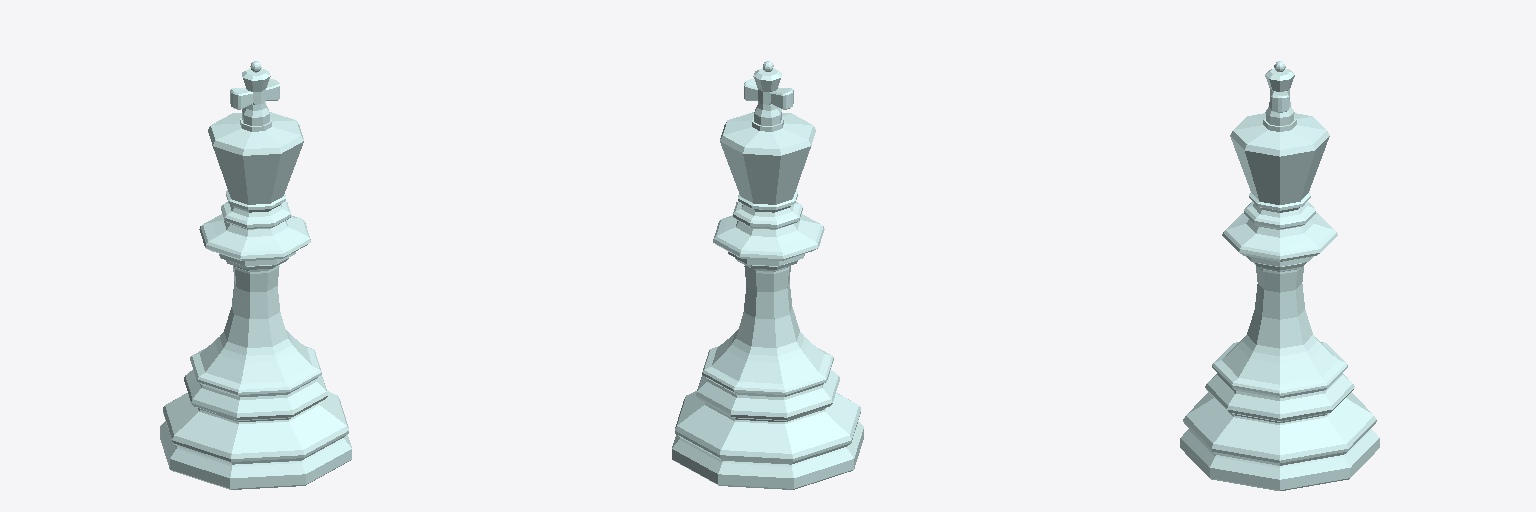
The model's file is King.obj.
The picture shows the model from 3 angles: view 1: azimuth 30°, elevation 25°; view 2: azimuth 150°, elevation 25°; view 3: azimuth 270°, elevation 25°; orthographic projection.
Parts seen in each view (by area): view 1: King_Cylinder.012; view 2: King_Cylinder.012; view 3: King_Cylinder.012.
Part boxes in pixels (x1,y1,x2,y2): King_Cylinder.012: (160, 61, 351, 489); King_Cylinder.012: (672, 61, 863, 489); King_Cylinder.012: (1180, 61, 1379, 490).
Size of the model in its own units: 0.3999 by 0.8614 by 0.3999.